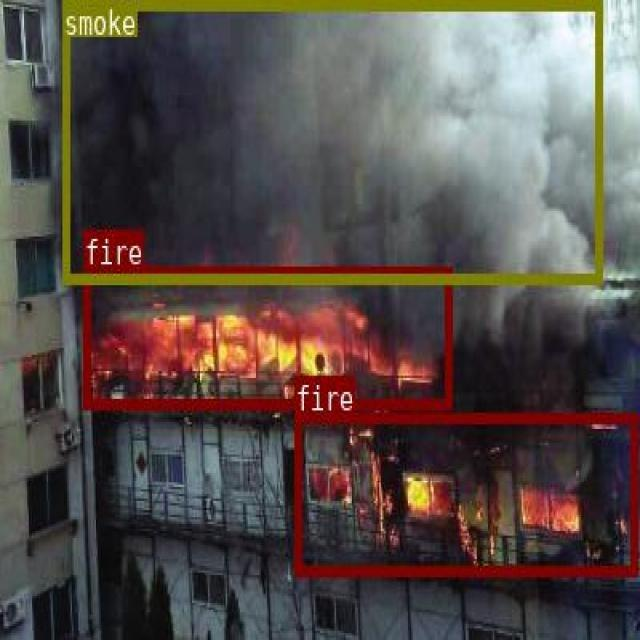fire: (293, 413, 636, 575), (82, 266, 451, 408)
smoke: (62, 0, 601, 283)
